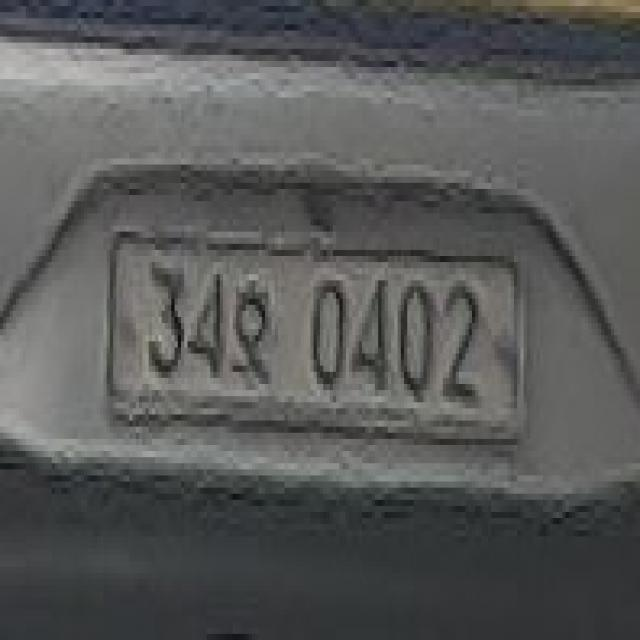0: (394, 268, 433, 402), (307, 274, 346, 396)
2: (436, 274, 478, 414)
3: (146, 256, 188, 378)
4: (349, 268, 391, 402), (188, 268, 226, 384)
ho: (229, 280, 275, 384)
license_plate: (104, 225, 524, 445)
